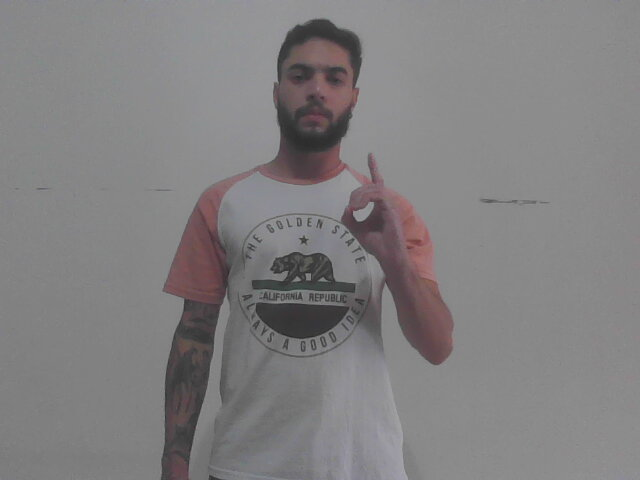d: (334, 149, 413, 267)
